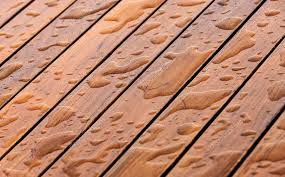Wet-floor: (2, 0, 285, 177)
